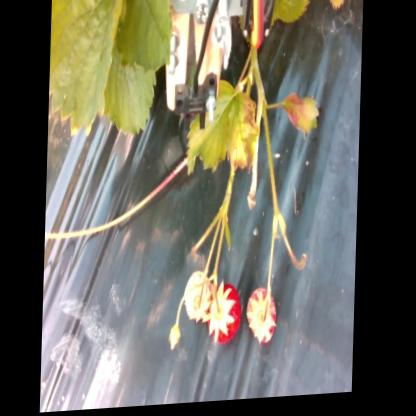ripe: (210, 280, 244, 351)
unripe: (248, 286, 279, 349), (183, 270, 213, 330)
